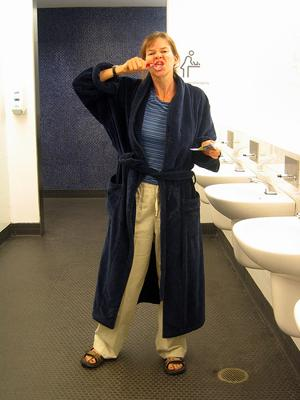person: (74, 33, 221, 375)
